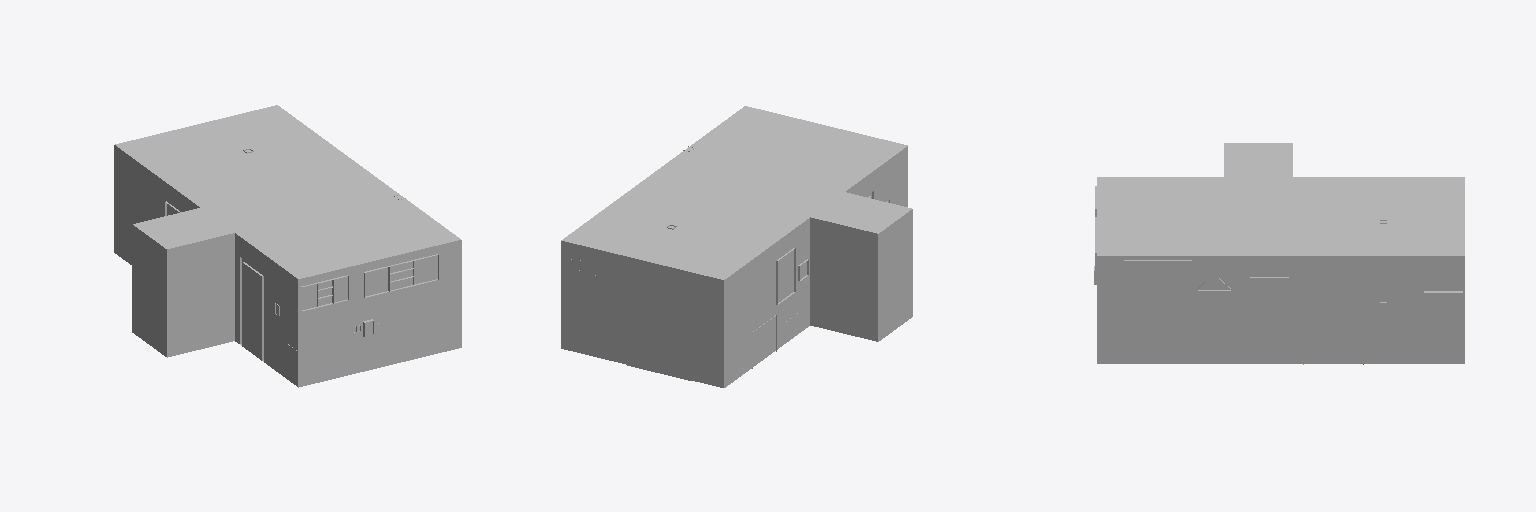
The picture shows the model from 3 angles: view 1: azimuth 30°, elevation 25°; view 2: azimuth 150°, elevation 25°; view 3: azimuth 270°, elevation 25°; orthographic projection.
Visible parts, largest first — view 1: Room_WallsRoofFloorExtras_0_WallsRoofFloorExtras; view 2: Room_WallsRoofFloorExtras_0_WallsRoofFloorExtras, Items1_WallsRoofFloorExtras_0_WallsRoofFloorExtras; view 3: Room_WallsRoofFloorExtras_0_WallsRoofFloorExtras, Items1_WallsRoofFloorExtras_0_WallsRoofFloorExtras.
Boxes of the visible parts, x1,y1,x2,y2 form: Room_WallsRoofFloorExtras_0_WallsRoofFloorExtras: [114, 105, 461, 387]; Room_WallsRoofFloorExtras_0_WallsRoofFloorExtras: [561, 106, 912, 387]; Items1_WallsRoofFloorExtras_0_WallsRoofFloorExtras: [626, 200, 889, 380]; Room_WallsRoofFloorExtras_0_WallsRoofFloorExtras: [1097, 143, 1464, 363]; Items1_WallsRoofFloorExtras_0_WallsRoofFloorExtras: [1094, 260, 1191, 323].
Size of the model in its own units: 492 by 227 by 679.